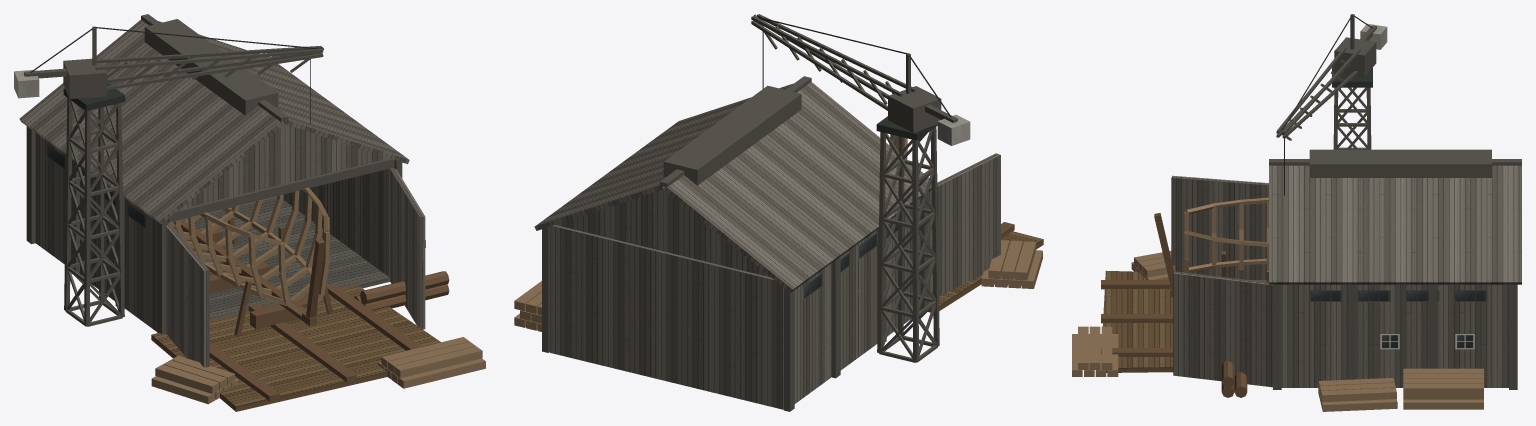
Rendered from port.glb.
3 views of the same model, side by side, from view 1: azimuth 30°, elevation 25°; view 2: azimuth 150°, elevation 25°; view 3: azimuth 270°, elevation 25° (orthographic). The views are drawn at different scales.
Parts seen in each view (by area): view 1: toit_pan_arriere, mur_long (×2), cale, vantail (×2), sol_cale, toit_pignon_b, madrier (×8), toit_pan_avant, grue_fut, lanterneau, fleche_membrure (×4), lambourde (×3) (+10 smaller); view 2: mur_fond, toit_pan_arriere, mur_long, vantail, toit_pignon_a, toit_pan_avant, lanterneau, grue_fut, poteau (×4), fleche_membrure (×3), grue_cabine, madrier (×2) (+3 smaller); view 3: toit_pan_avant, mur_long, vantail (×2), madrier (×12), lanterneau, cale, poteau (×4), lambourde (×3), fleche_membrure (×3), fenetre (×3), grue_cabine, etrave (+3 smaller).
Part boxes in pixels (x1,y1,x2,y2): toit_pan_arriere: [19, 20, 284, 224]; mur_long (×2): [35, 133, 393, 331]; cale: [151, 284, 440, 411]; vantail (×2): [166, 168, 425, 367]; sol_cale: [173, 196, 389, 320]; toit_pignon_b: [180, 124, 388, 209]; madrier (×8): [151, 337, 485, 404]; toit_pan_avant: [158, 21, 409, 164]; grue_fut: [64, 98, 124, 325]; lanterneau: [144, 19, 278, 115]; fleche_membrure (×4): [95, 46, 323, 90]; lambourde (×3): [209, 284, 420, 401]; mur_fond: [550, 225, 783, 409]; toit_pan_arriere: [663, 82, 931, 292]; mur_long: [794, 198, 920, 403]; vantail: [929, 153, 1000, 298]; toit_pignon_a: [556, 189, 770, 277]; toit_pan_avant: [534, 83, 793, 230]; lanterneau: [663, 85, 801, 185]; grue_fut: [877, 127, 939, 361]; poteau (×4): [542, 192, 929, 411]; fleche_membrure (×3): [751, 14, 915, 110]; grue_cabine: [888, 86, 941, 132]; madrier (×2): [1001, 240, 1036, 280]; toit_pan_avant: [1269, 165, 1521, 284]; mur_long: [1281, 284, 1508, 387]; vantail (×2): [1171, 175, 1272, 387]; madrier (×12): [1078, 326, 1483, 411]; lanterneau: [1309, 149, 1491, 177]; cale: [1102, 270, 1173, 372]; poteau (×4): [1273, 284, 1517, 389]; lambourde (×3): [1101, 280, 1266, 356]; fleche_membrure (×3): [1276, 46, 1360, 138]; fenetre (×3): [1308, 290, 1487, 301]; grue_cabine: [1334, 37, 1376, 76]; etrave: [1154, 213, 1174, 290].
Size of the model in its own units: 3.73 by 2.68 by 4.19.
13 materials, 6 textured.
